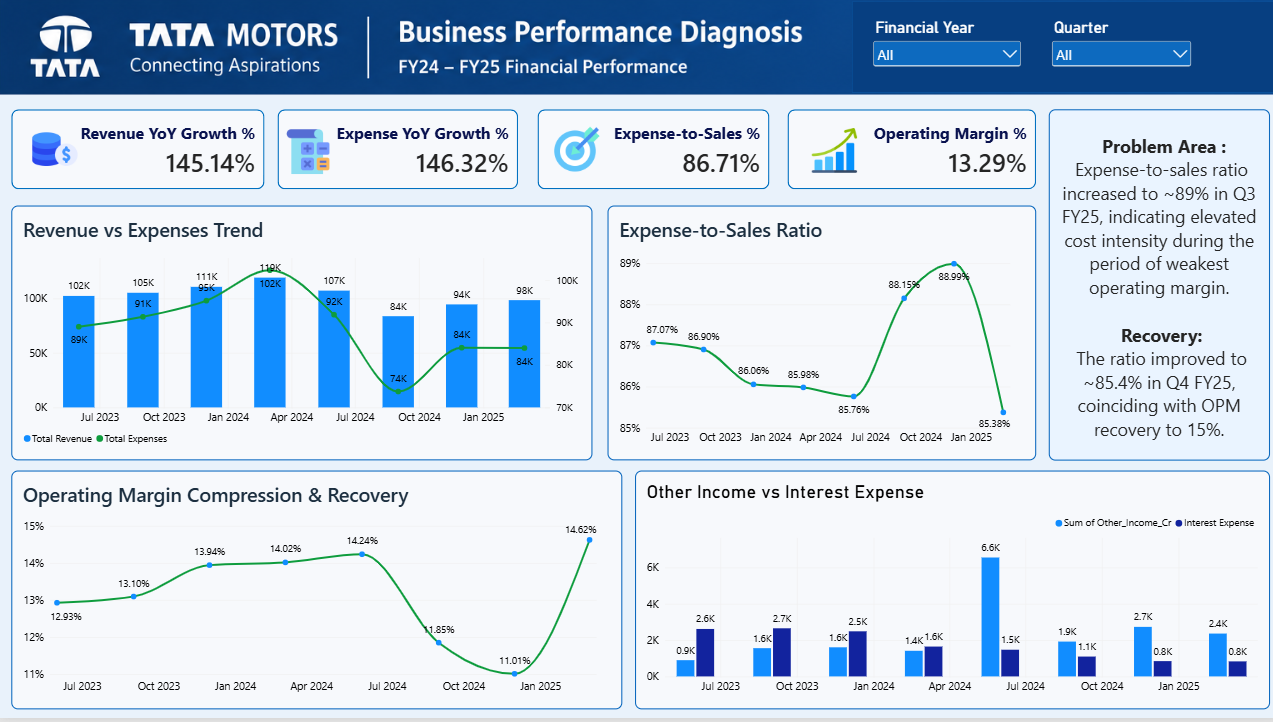

This screenshot's page, from the dashboard's own definition file:
{"tool":"powerbi","page":{"name":"Page 2","canvas":[1920,1080],"ordinal":1},"visuals":[{"type":"image","box":[0,0,1920.1,146.6],"z":0},{"type":"shape","box":[1279.4,5.4,640.6,135.7],"z":1000},{"type":"slicer","fields":{"Values":["Fact_Financials.Financial_Year"]},"box":[1304.8,30.8,231.6,85.1],"z":2000},{"type":"slicer","fields":{"Values":["Fact_Financials.Quarter"]},"box":[1572.6,30.8,219,85.1],"z":3000},{"type":"cardVisual","fields":{"Data":["Fact_Financials.Revenue YoY Growth %"]},"box":[16.9,166.9,380.7,120],"z":4000},{"type":"cardVisual","fields":{"Data":["Fact_Financials.Operating Margin %"]},"box":[1181.5,166.9,373.2,120],"z":5000},{"type":"cardVisual","fields":{"Data":["Fact_Financials.Expense-to-Sales %"]},"box":[806.4,166.9,348.8,120],"z":6000},{"type":"cardVisual","fields":{"Data":["Fact_Financials.Expense YoY Growth %"]},"box":[416.3,166.9,361.9,120],"z":7000},{"type":"lineClusteredColumnComboChart","title":"Revenue vs Expenses Trend","fields":{"Category":["Fact_Financials.Period"],"Y":["Fact_Financials.Total Revenue"],"Y2":["Fact_Financials.Total Expenses"]},"box":[16.9,311.3,872,382.6],"z":8000},{"type":"lineChart","title":"Expense-to-Sales Ratio","fields":{"Category":["Fact_Financials.Period"],"Y":["Fact_Financials.Expense-to-Sales %"]},"box":[911.4,311.3,643.3,382.6],"z":9000},{"type":"textbox","box":[1573.4,166.9,331.9,527],"z":10000},{"type":"lineChart","title":"Operating Margin Compression & Recovery","fields":{"Category":["Fact_Financials.Period"],"Y":["Fact_Financials.Operating Margin %"]},"box":[16.9,708.9,917.1,358.2],"z":11000},{"type":"clusteredColumnChart","title":"Other Income vs Interest Expense","fields":{"Category":["Fact_Financials.Period"],"Y":["Sum(Fact_Financials.Other_Income_Cr)","Fact_Financials.Interest Expense"]},"box":[952.7,708.9,952.7,358.2],"z":12000},{"type":"image","box":[819.5,193.2,91.9,67.5],"z":13000},{"type":"image","box":[30,193.2,105,67.5],"z":14000},{"type":"image","box":[1205.9,195,91.9,67.5],"z":15000},{"type":"image","box":[416.3,196.9,91.9,67.5],"z":16000}]}

Visuals, with their boxes in screenshot pixels (x1, y1, x2, y2), scaled from the page's 1920x1080 canvas onto the 1273x722 screenshot:
image: x1=0, y1=0, x2=1272, y2=98
shape: x1=848, y1=4, x2=1272, y2=94
slicer - Fact_Financials.Financial_Year: x1=865, y1=21, x2=1019, y2=77
slicer - Fact_Financials.Quarter: x1=1043, y1=21, x2=1188, y2=77
cardVisual - Fact_Financials.Revenue YoY Growth %: x1=11, y1=112, x2=264, y2=192
cardVisual - Fact_Financials.Operating Margin %: x1=783, y1=112, x2=1031, y2=192
cardVisual - Fact_Financials.Expense-to-Sales %: x1=535, y1=112, x2=766, y2=192
cardVisual - Fact_Financials.Expense YoY Growth %: x1=276, y1=112, x2=516, y2=192
"Revenue vs Expenses Trend" lineClusteredColumnComboChart: x1=11, y1=208, x2=589, y2=464
"Expense-to-Sales Ratio" lineChart: x1=604, y1=208, x2=1031, y2=464
textbox: x1=1043, y1=112, x2=1263, y2=464
"Operating Margin Compression & Recovery" lineChart: x1=11, y1=474, x2=619, y2=713
"Other Income vs Interest Expense" clusteredColumnChart: x1=632, y1=474, x2=1263, y2=713
image: x1=543, y1=129, x2=604, y2=174
image: x1=20, y1=129, x2=90, y2=174
image: x1=800, y1=130, x2=860, y2=175
image: x1=276, y1=132, x2=337, y2=177
